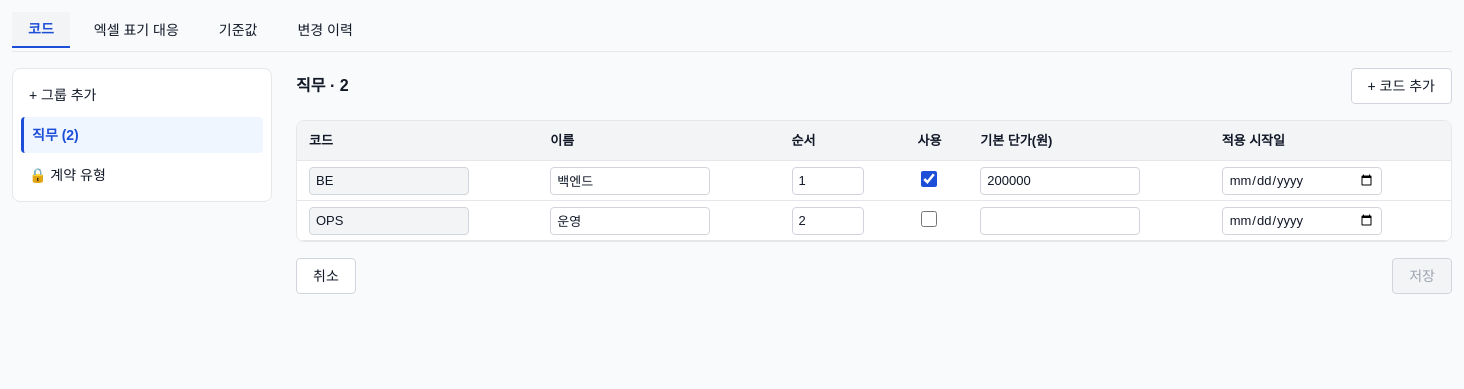
Test: 저장 오류는 문의번호와 모든 입력을 유지한다
Replace the text in the field named "이름 1" with "보존" at point(630, 180), box [550,166,710,194]
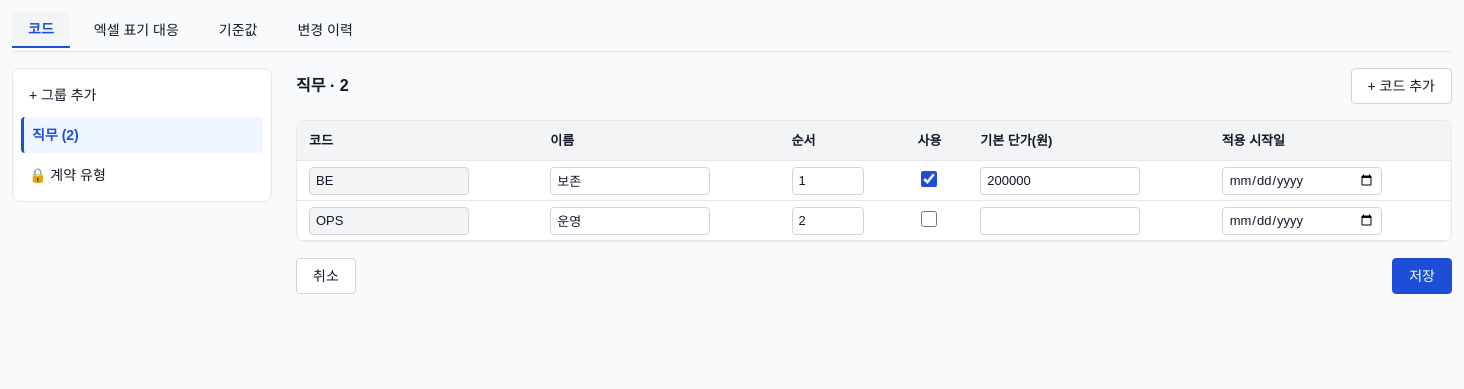
Click the button "저장".
click(1422, 276)  # box [1392,258,1452,294]
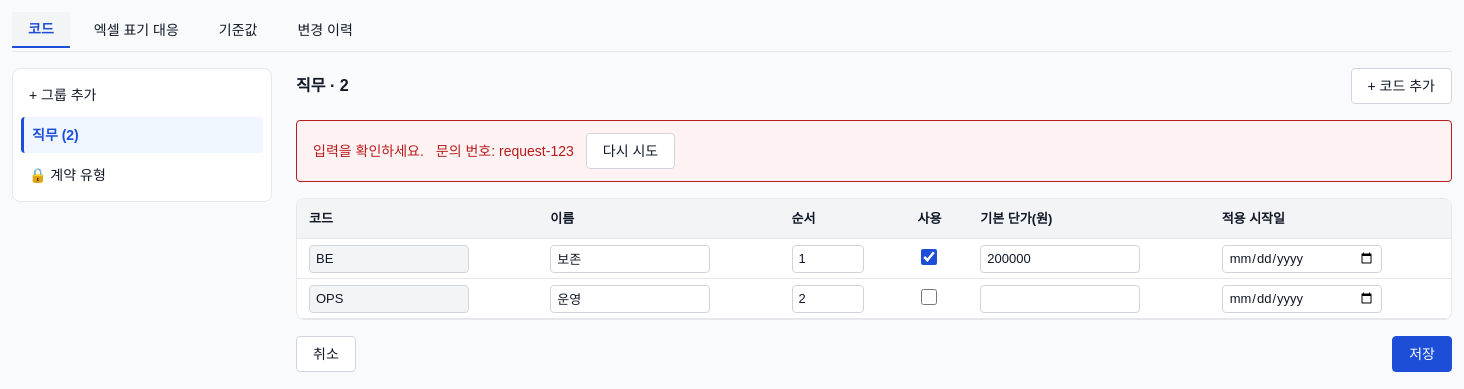
Expected: the text "입력을 확인하세요." is shown, [313,141,424,161]
Expected: the text "문의 번호: request-123" is shown, [436,141,574,161]
